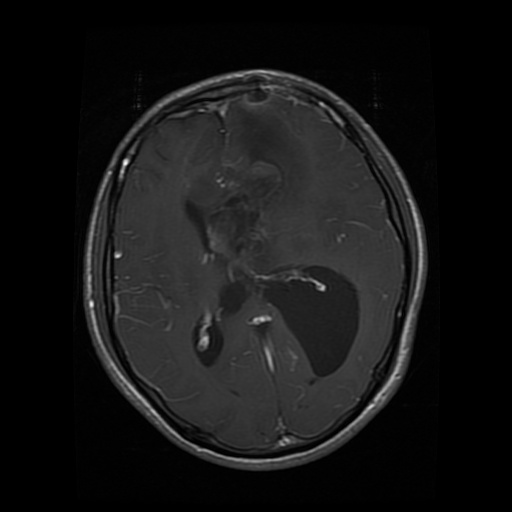glioma: (178, 107, 304, 265)
